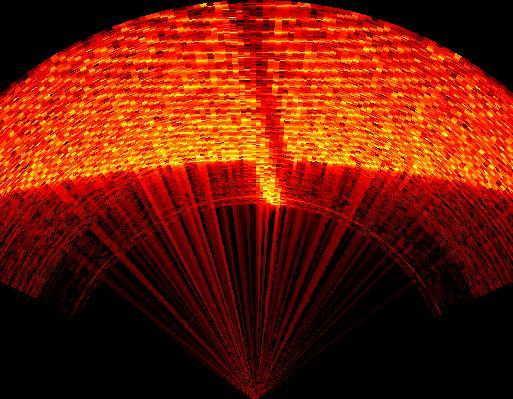pipe: (230, 4, 296, 190)
